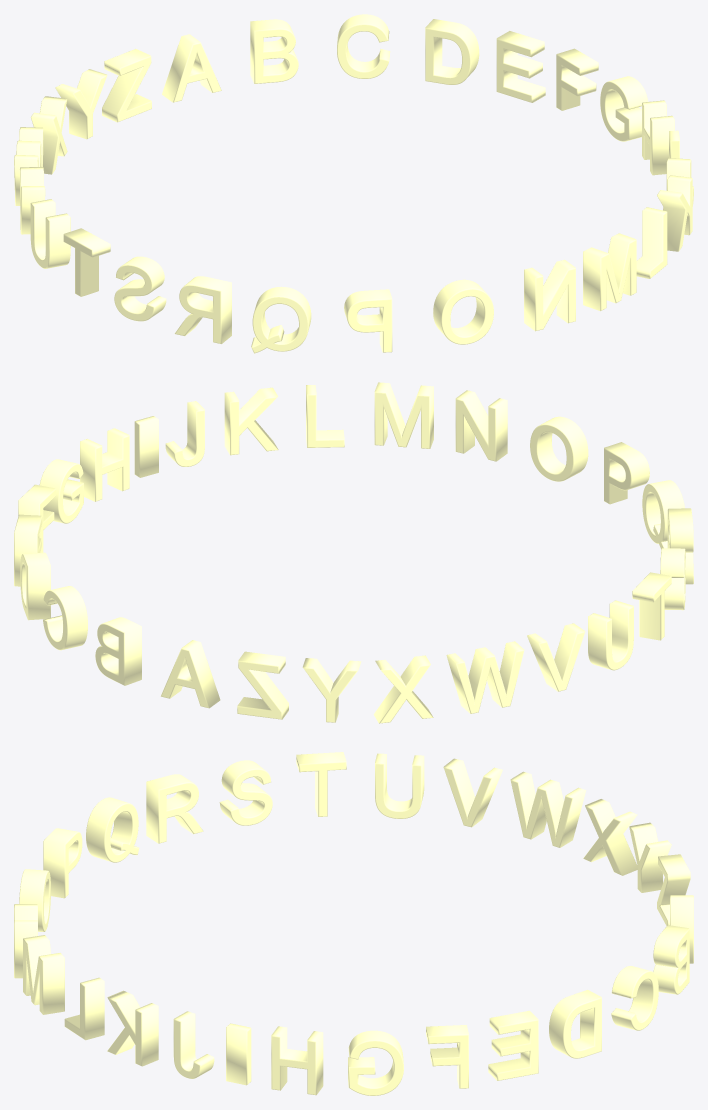
3 renders of one model, top to bottom at view 1: azimuth 30°, elevation 25°; view 2: azimuth 150°, elevation 25°; view 3: azimuth 270°, elevation 25°, orthographic.
Visible parts, largest first — view 1: A.013, A.014, A.004, A.001, A.018, A.003, A.017, A.015, A.025, A.006, A.019, A.021 (+13 smaller); view 2: A.023, A.014, A.013, A.015, A.007, A.001, A.021, A.025, A.011, A.002, A, A.016 (+14 smaller); view 3: A.023, A.003, A.017, A.004, A.013, A.018, A.006, A.011, A.010, A.019, A.007, A.002 (+14 smaller).
Part boxes in pixels (x1,y1,x2,y2): A.013: (583, 233, 636, 311); A.014: (524, 259, 575, 331); A.004: (496, 31, 545, 102); A.001: (250, 19, 298, 83); A.018: (174, 276, 231, 343); A.003: (425, 19, 479, 84); A.017: (251, 286, 311, 353); A.015: (433, 279, 493, 344); A.025: (102, 49, 151, 122); A.006: (600, 76, 648, 141); A.019: (114, 256, 166, 321); A.021: (30, 199, 70, 268); A.023: (446, 641, 524, 713); A.014: (455, 390, 507, 461); A.013: (374, 382, 433, 448); A.015: (530, 416, 588, 481); A.007: (80, 428, 129, 501); A.001: (95, 617, 141, 685); A.021: (588, 600, 633, 670); A.025: (237, 651, 288, 719); A.011: (224, 387, 278, 455); A.002: (43, 586, 87, 650); A: (160, 640, 220, 708); A.016: (604, 442, 649, 504); A.023: (510, 771, 586, 847); A.003: (549, 990, 601, 1058); A.017: (86, 797, 139, 862); A.004: (488, 1010, 538, 1080); A.013: (23, 935, 64, 1014); A.018: (146, 774, 203, 843); A.006: (348, 1030, 403, 1095); A.011: (107, 990, 158, 1066); A.010: (583, 799, 637, 875); A.019: (219, 760, 272, 825); A.007: (271, 1026, 323, 1095); A.002: (611, 966, 658, 1030).
Size of the model in its own units: 6.26 by 0.5976 by 6.21.
